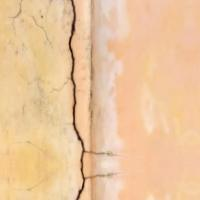crack: (49, 0, 108, 199)
